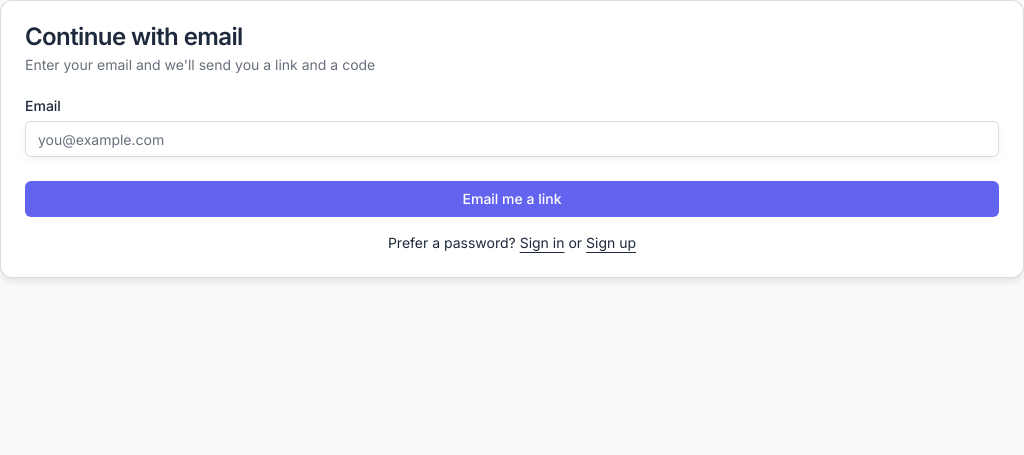
Test: SignInLinkForm › should show generic fault copy when send fails unexpectedly
Type "test@example.com" into the field labelled "Email" at (512, 139), box x1=25 y1=121 x2=999 y2=157
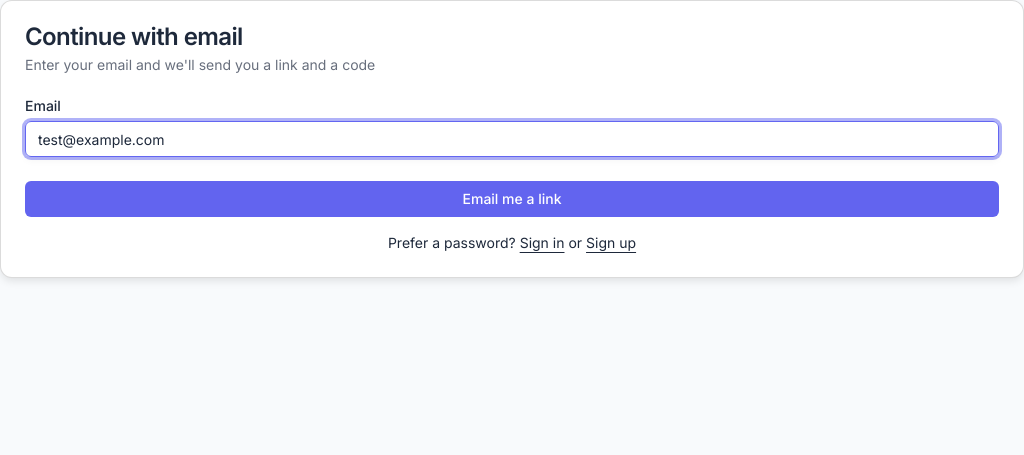
Click the button "Email me a link" at (512, 199), box x1=25 y1=181 x2=999 y2=217
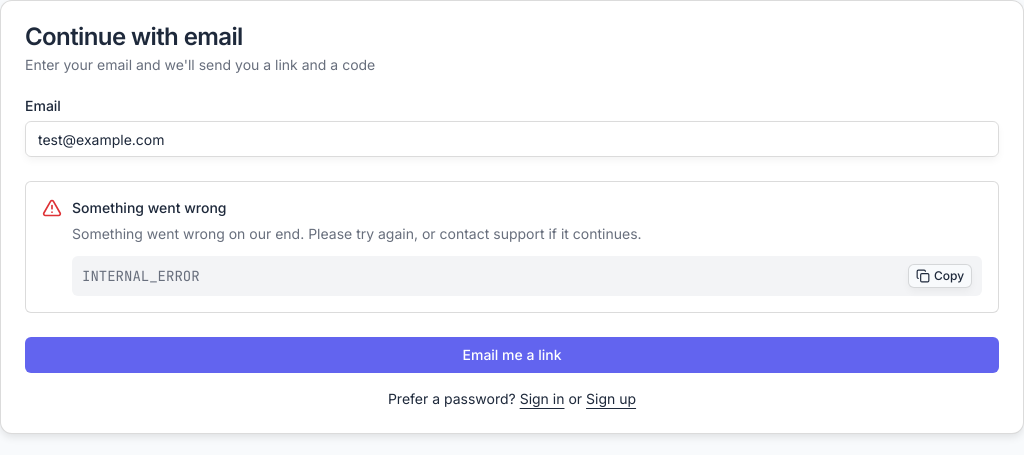
Now the text "something went wrong on our end. please try again, or contact support if it continues." is shown, box x1=72 y1=225 x2=642 y2=242
